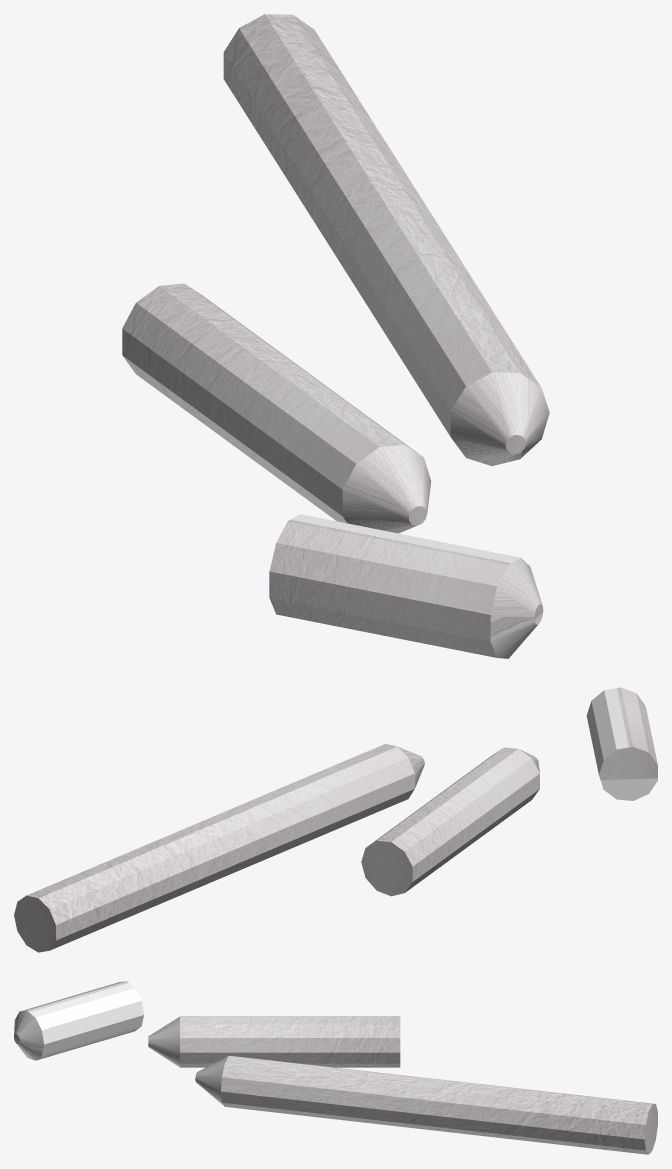
File: Chalks.FBX
3 views of the same model, one above another, from view 1: azimuth 30°, elevation 25°; view 2: azimuth 150°, elevation 25°; view 3: azimuth 270°, elevation 25° (orthographic). The views are drawn at different scales.
Visible parts, largest first — view 1: Chalk 1, Chalk 2, Chalk 3; view 2: Chalk 1, Chalk 2, Chalk 3; view 3: Chalk 1, Chalk 2, Chalk 3.
Boxes of the visible parts, x1=… form: Chalk 1: x1=223, y1=14, x2=549, y2=465; Chalk 2: x1=122, y1=283, x2=431, y2=533; Chalk 3: x1=269, y1=514, x2=543, y2=658; Chalk 1: x1=14, y1=743, x2=424, y2=952; Chalk 2: x1=361, y1=747, x2=539, y2=896; Chalk 3: x1=586, y1=687, x2=657, y2=800; Chalk 1: x1=195, y1=1056, x2=657, y2=1154; Chalk 2: x1=148, y1=1016, x2=400, y2=1067; Chalk 3: x1=14, y1=981, x2=143, y2=1060.
Bounding box in the file's own units: 12.89 × 1.98 × 24.65.
1 material, 1 textured.
